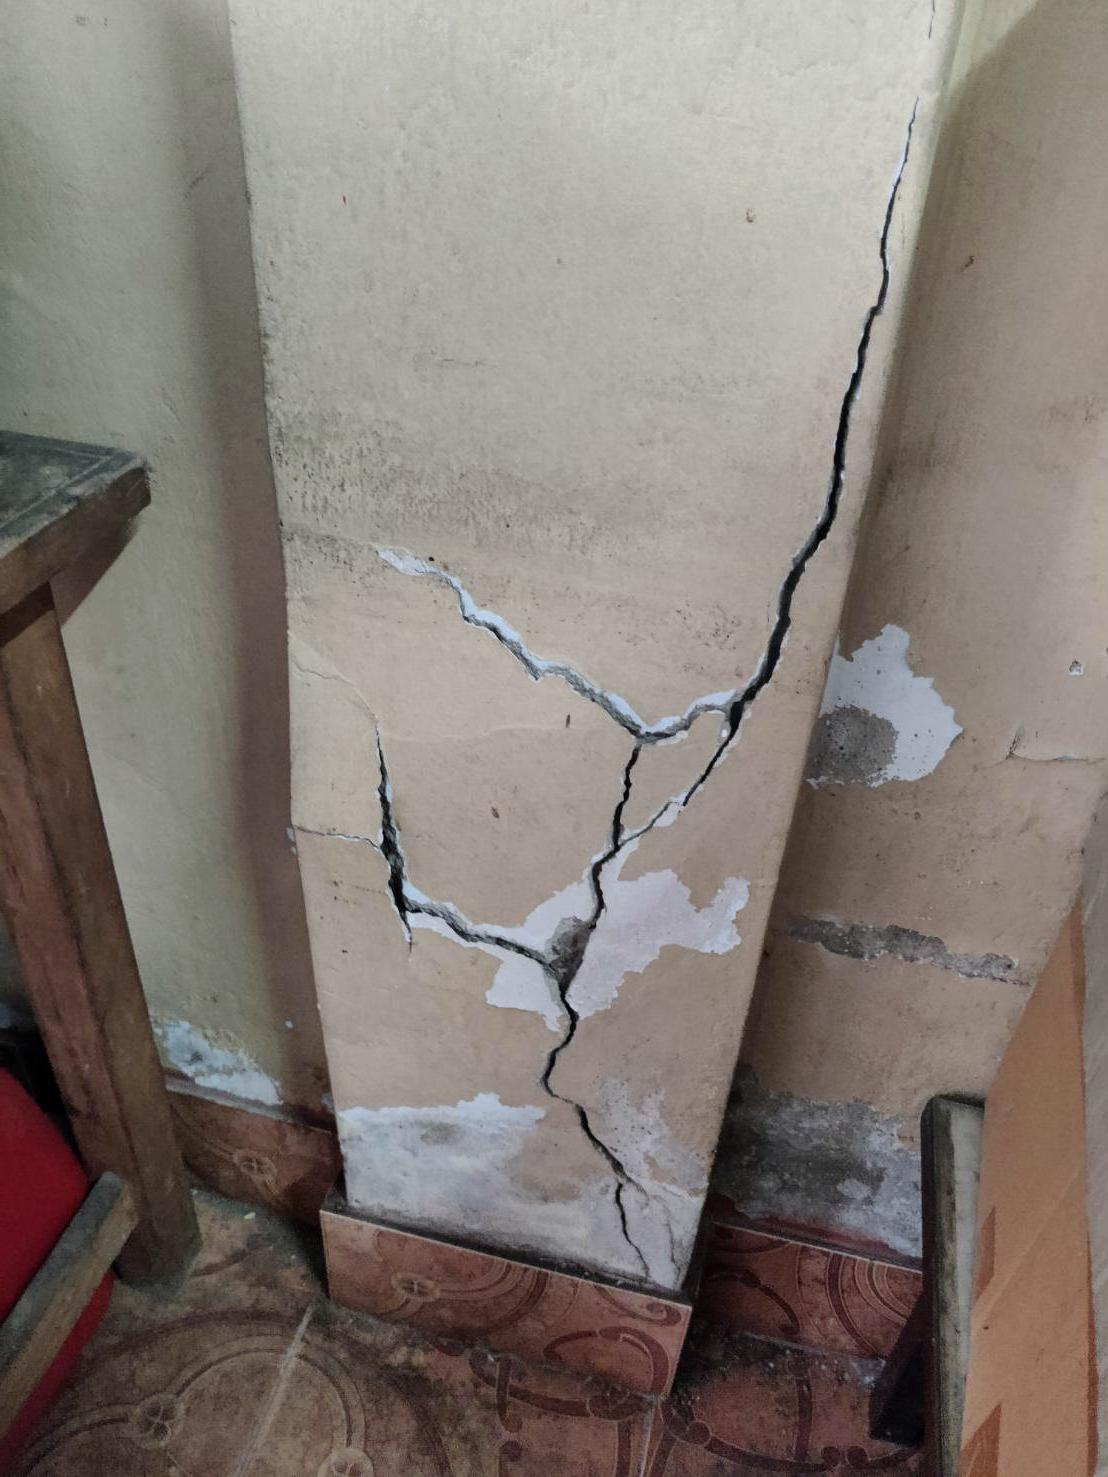High: (269, 40, 900, 1477)
